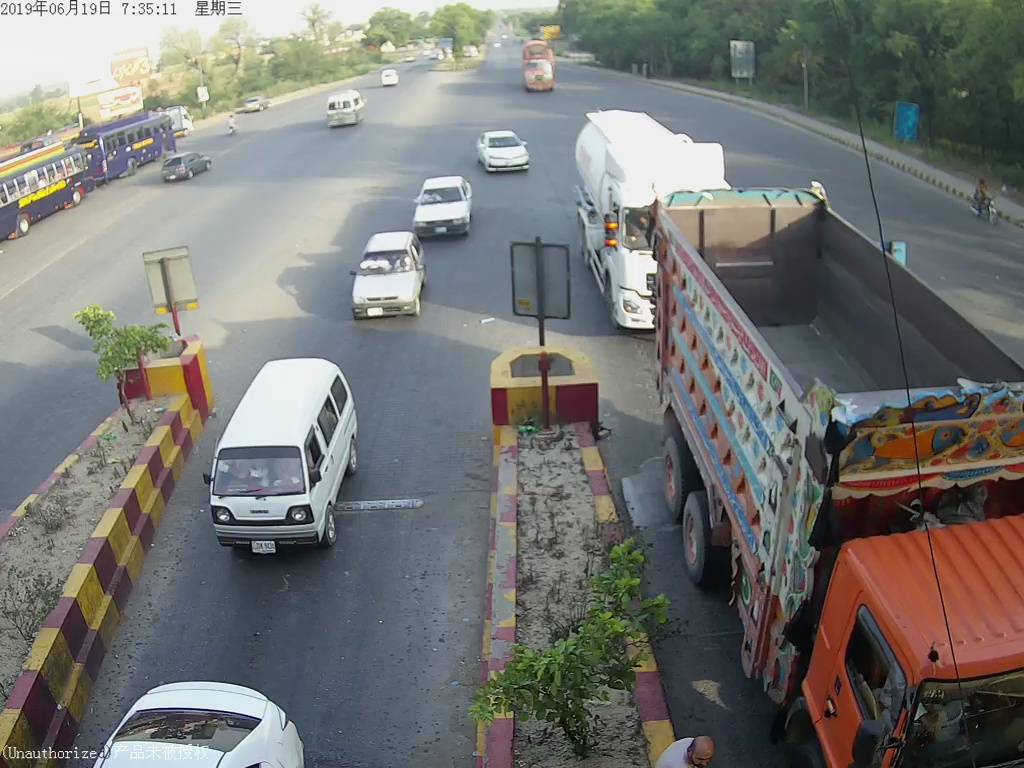Cat-1: (210, 354, 368, 559), (343, 227, 432, 318), (410, 171, 475, 230), (478, 129, 531, 176)
Cat-4: (573, 105, 731, 339)
